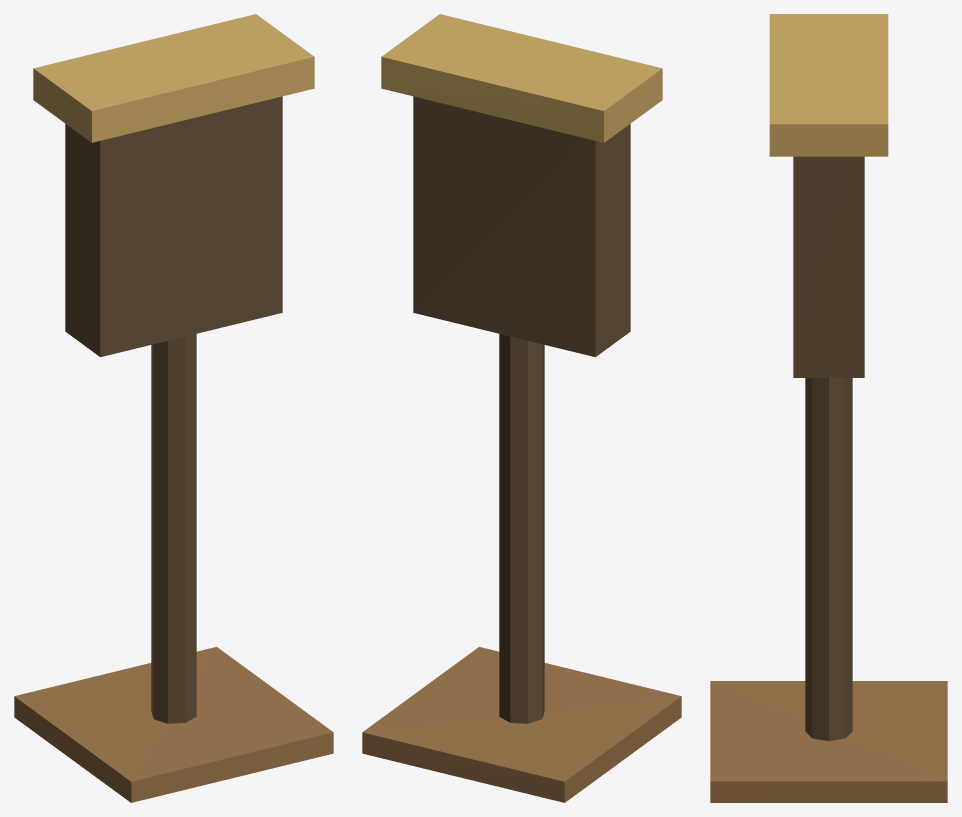
Rendered from Bat-house.glb.
3 renders of one model, left to right at view 1: azimuth 30°, elevation 25°; view 2: azimuth 150°, elevation 25°; view 3: azimuth 270°, elevation 25°, orthographic.
Parts seen in each view (by area): view 1: bat-house-static-bat-house-timber, bat-house-static-bat-house-earth, bat-house-static-bat-house-accent; view 2: bat-house-static-bat-house-timber, bat-house-static-bat-house-earth, bat-house-static-bat-house-accent; view 3: bat-house-static-bat-house-timber, bat-house-static-bat-house-earth, bat-house-static-bat-house-accent.
Part boxes in pixels (x1,y1,x2,y2): bat-house-static-bat-house-timber: [65, 96, 282, 723]; bat-house-static-bat-house-earth: [14, 647, 333, 802]; bat-house-static-bat-house-accent: [33, 14, 314, 142]; bat-house-static-bat-house-timber: [413, 96, 630, 723]; bat-house-static-bat-house-earth: [362, 647, 681, 802]; bat-house-static-bat-house-accent: [381, 14, 662, 142]; bat-house-static-bat-house-timber: [793, 156, 864, 741]; bat-house-static-bat-house-earth: [710, 681, 947, 802]; bat-house-static-bat-house-accent: [769, 14, 888, 156].
Size of the model in its own units: 1.1 by 3.17 by 1.
